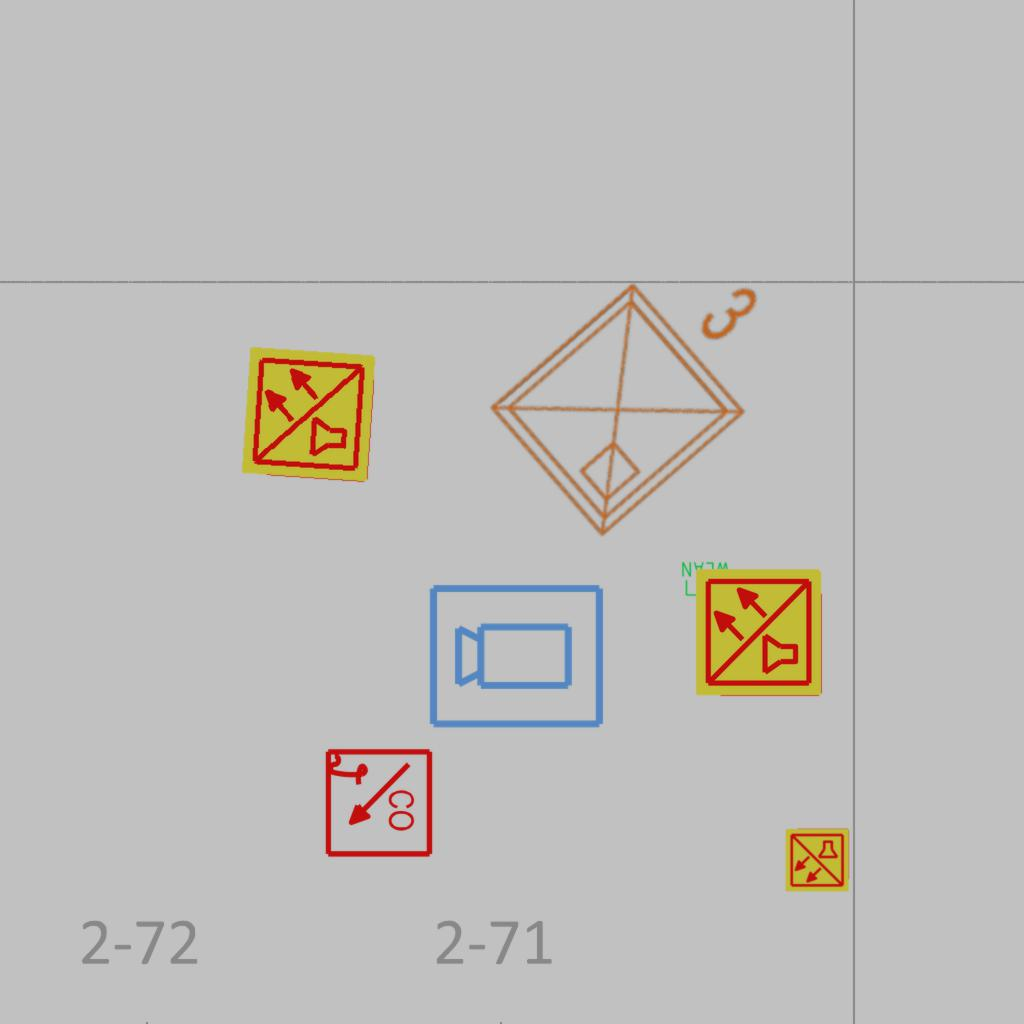Einbaudownlights_LED_Konferenzraeume: (464, 203, 828, 557)
KFO_Kamera_mit_Festobjektiv: (426, 578, 608, 732)
OKW_Multisensormelder_(Kombination_optischer_Rauch-Kahlenmonoxid_Waerme-Melder): (238, 343, 380, 485), (693, 566, 825, 698), (784, 827, 850, 893)
ROA_Rauchmelder_optisch_mit_Signalgeber_(Sockelsirene): (321, 747, 434, 860)
WLAN: (680, 560, 732, 612)
